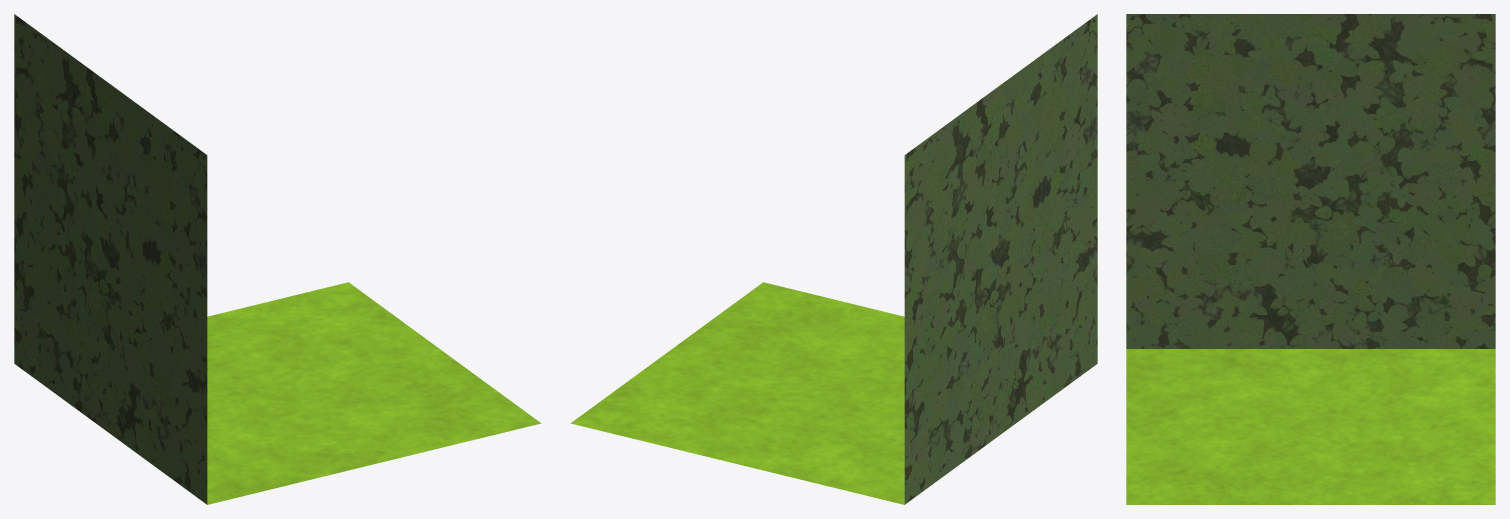
Rendered from garden_wall_secret_door.glb.
3 renders of one model, left to right at view 1: azimuth 30°, elevation 25°; view 2: azimuth 150°, elevation 25°; view 3: azimuth 270°, elevation 25°, orthographic. The views are drawn at different scales.
Visible parts, largest first — view 1: ground, door; view 2: ground, door; view 3: ground, door.
Boxes of the visible parts, box(x1,y1,x2,y2) form: ground: box(14, 14, 541, 504); door: box(46, 90, 173, 479); ground: box(570, 14, 1097, 504); door: box(936, 91, 1063, 481); ground: box(1126, 14, 1495, 504); door: box(1191, 64, 1434, 348).
Bounding box in the file's own units: 2 × 2 × 2.
2 materials, 2 textured.
